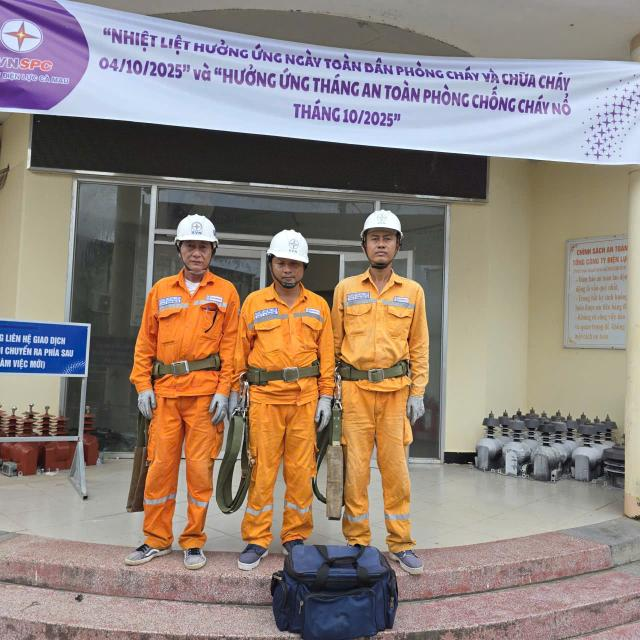gloves: (308, 396, 339, 432), (396, 391, 425, 428), (130, 391, 166, 418), (200, 391, 230, 422), (225, 387, 236, 416)
harness: (330, 350, 418, 387), (241, 360, 336, 392), (136, 343, 222, 378)
helmet: (253, 223, 321, 275), (166, 208, 223, 258), (361, 194, 405, 247)
shoes: (233, 529, 280, 568), (381, 545, 432, 578), (176, 533, 219, 569), (124, 533, 172, 563), (284, 526, 301, 557)
